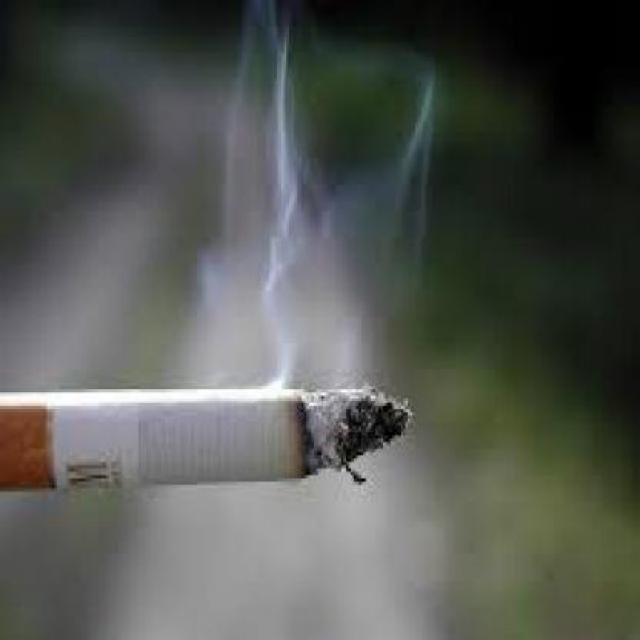cigarette: (3, 383, 440, 502)
